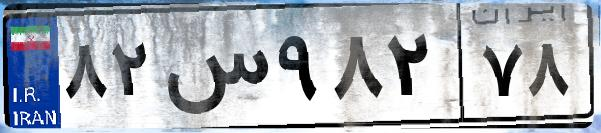2: (385, 28, 445, 110), (110, 28, 158, 98)
7: (475, 38, 525, 113)
8: (330, 28, 385, 110), (57, 26, 110, 100), (525, 38, 570, 115)
9: (270, 28, 330, 110)
س: (158, 20, 270, 120)
